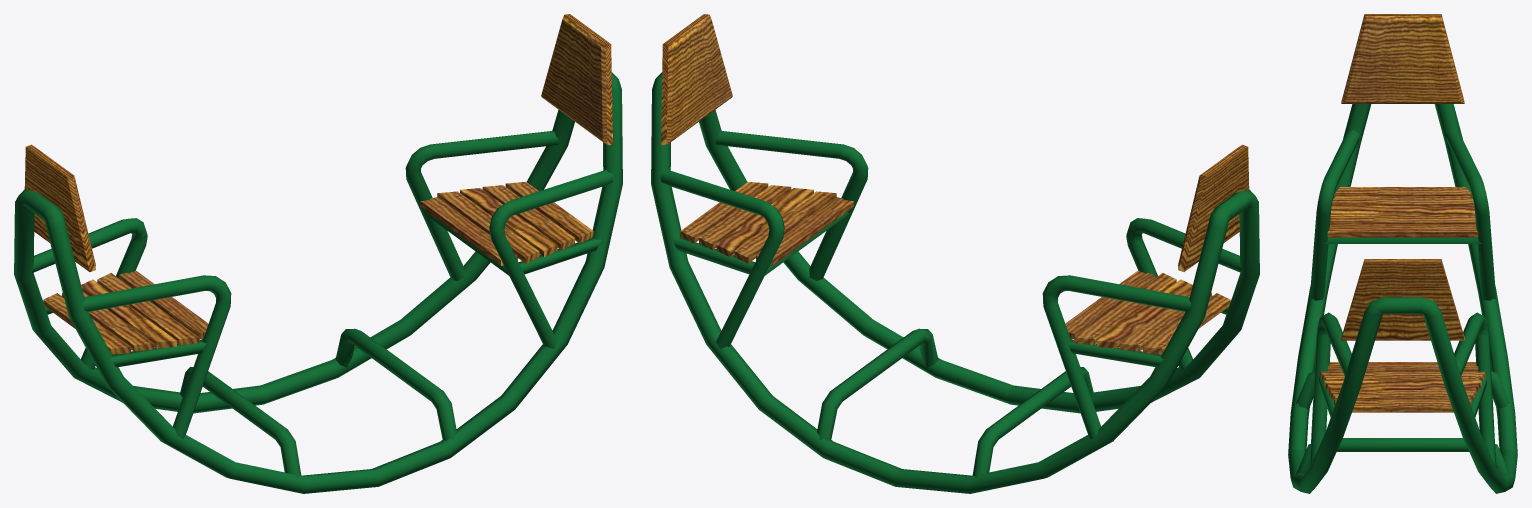
File: play_398.glb
The picture shows the model from 3 angles, left to right: view 1: azimuth 30°, elevation 25°; view 2: azimuth 150°, elevation 25°; view 3: azimuth 270°, elevation 25°; orthographic projection. The views are drawn at different scales.
Visible parts, largest first — view 1: play_398; view 2: play_398; view 3: play_398.
Part boxes in pixels (x1,y1,x2,y2): play_398: [14, 14, 622, 493]; play_398: [651, 14, 1259, 493]; play_398: [1288, 14, 1517, 493].
Size of the model in its own units: 2.22 by 1.3 by 0.826.
1 material, 1 textured.
